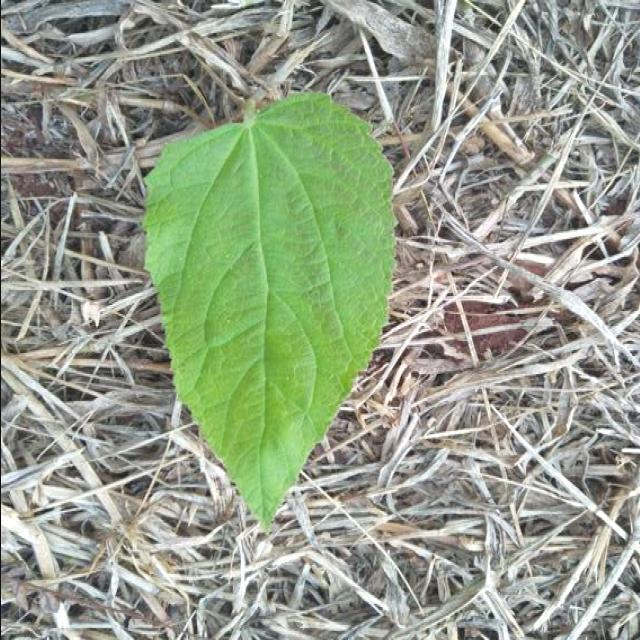leaf: (140, 90, 396, 532)
